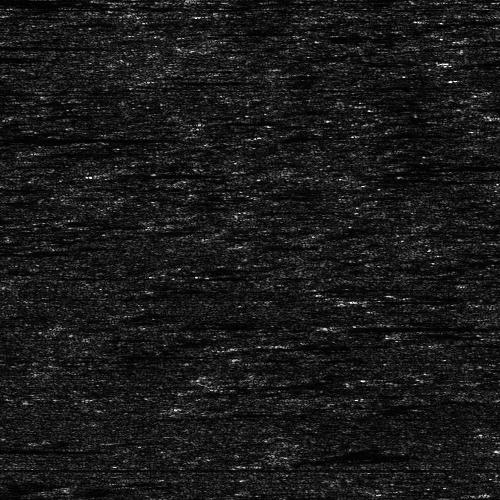rock: (138, 69, 169, 88), (296, 323, 337, 328), (36, 498, 109, 500), (214, 498, 277, 500)
shadow: (0, 34, 98, 53), (0, 439, 107, 452), (154, 69, 201, 88), (317, 323, 495, 328), (246, 498, 458, 500), (0, 88, 86, 91), (73, 498, 152, 500)
